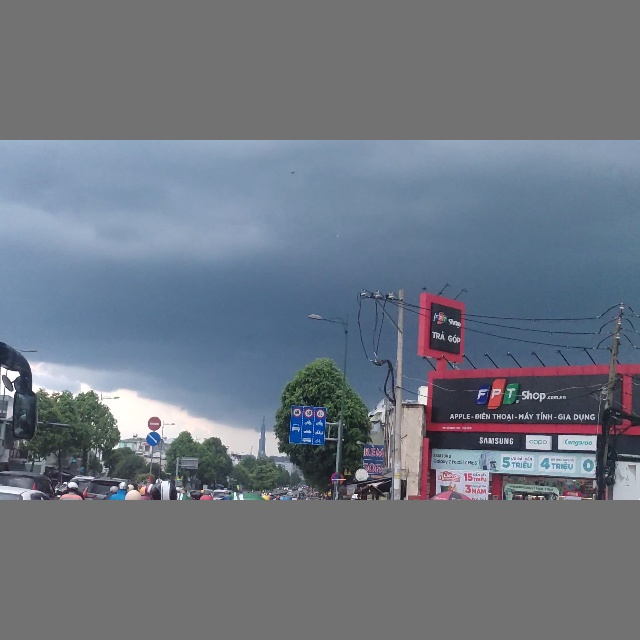P.102: (148, 416, 161, 431)
R.302a: (146, 432, 161, 446)
R.415a: (289, 405, 326, 445)
